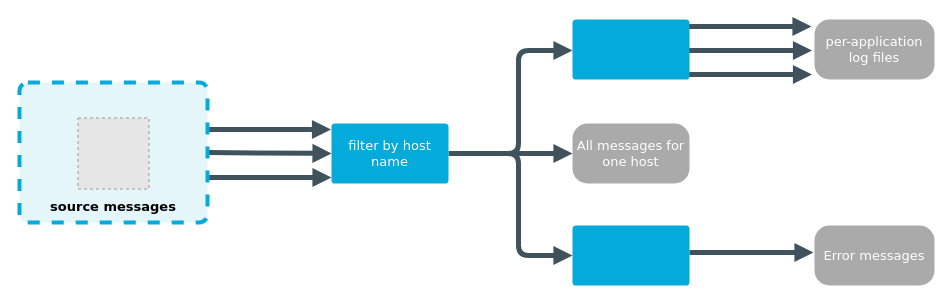
This 951x303 diagram has some shape labels left out. Grey dashed boxes stand in for pictures. Here are the shapes that lost their labels. From the top down, the centre of each, then its label:
(x=630, y=49): filter by application
(x=630, y=255): filter by importance
